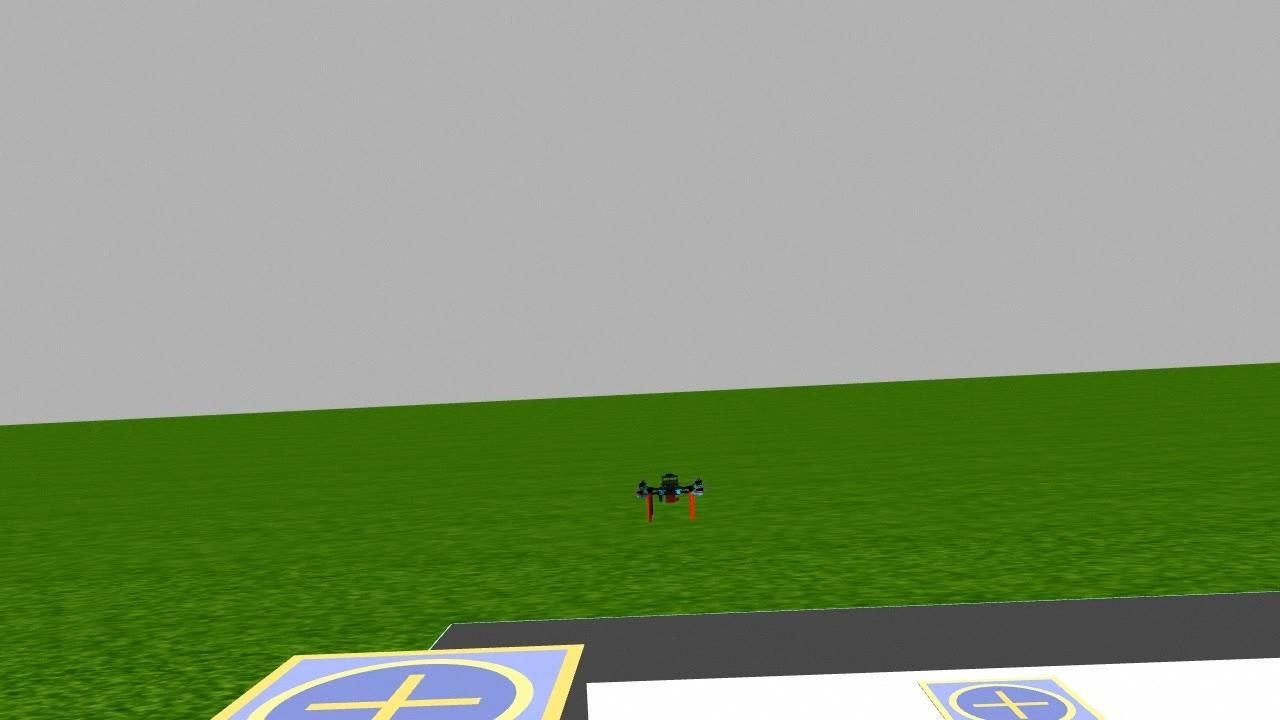UAV: (620, 454, 716, 536)
